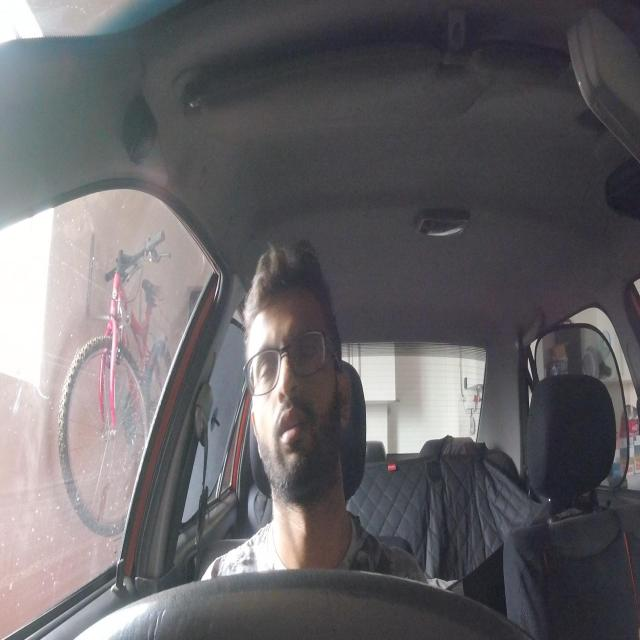close: (255, 340, 277, 384)
